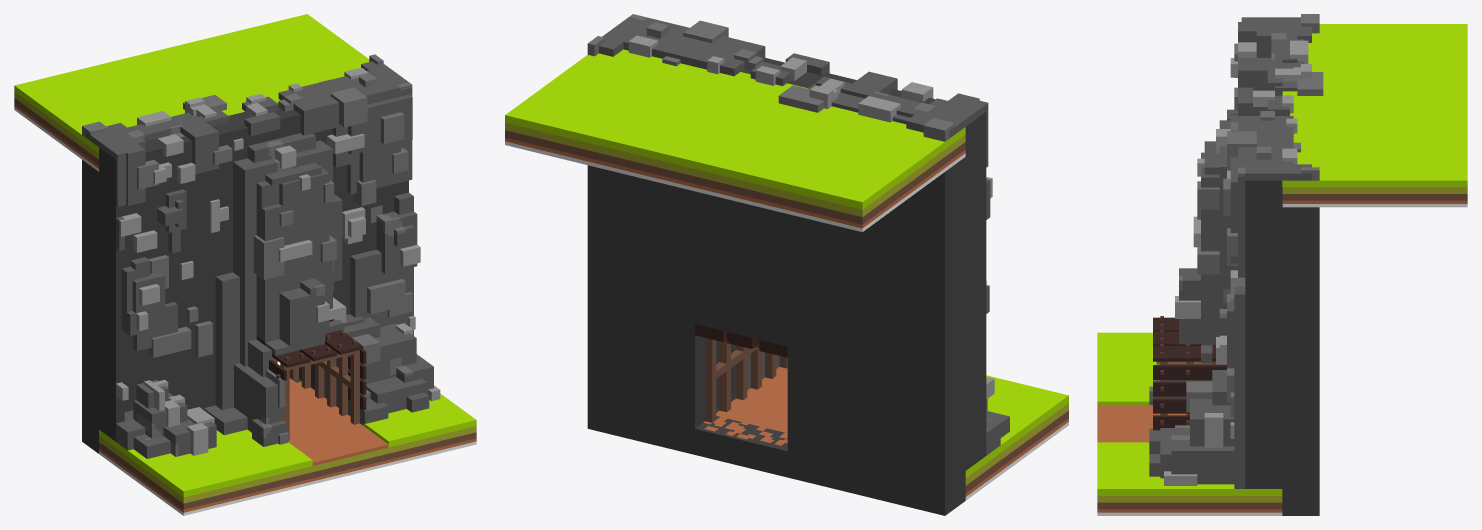
The model's file is Cliffs-0-Cliff Mine.obj.
The picture shows the model from 3 angles, left to right: view 1: azimuth 30°, elevation 25°; view 2: azimuth 150°, elevation 25°; view 3: azimuth 270°, elevation 25°; orthographic projection. The views are drawn at different scales.
Visible parts, largest first — view 1: Cliff Mine; view 2: Cliff Mine; view 3: Cliff Mine.
Boxes of the visible parts, x1=… form: Cliff Mine: x1=14, y1=14, x2=476, y2=515; Cliff Mine: x1=505, y1=14, x2=1068, y2=515; Cliff Mine: x1=1097, y1=14, x2=1467, y2=515.
Bounding box in the file's own units: 10 × 10.4 × 10.
Materials: 1 (1 with a texture image).
